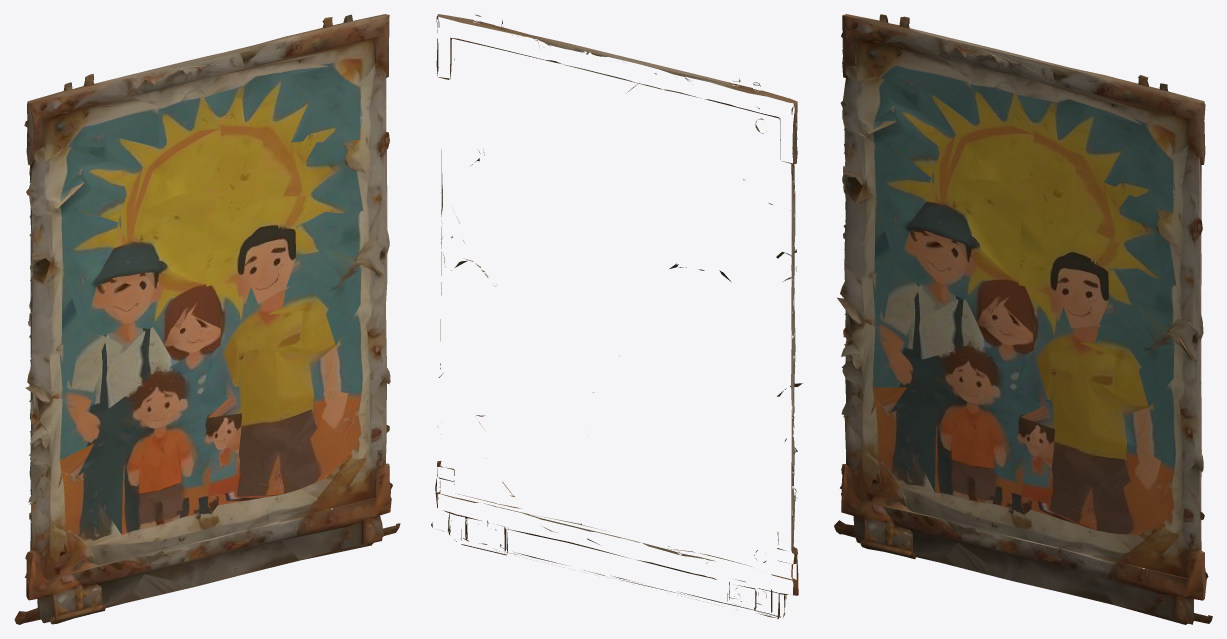
File: poster_1_idle.glb
3 views of the same model, side by side, from view 1: azimuth 30°, elevation 25°; view 2: azimuth 150°, elevation 25°; view 3: azimuth 330°, elevation 25° (orthographic).
Parts seen in each view (by area): view 1: tripo_node_bb902df6-f2d8-4b44-9ea7-0f4921920916; view 2: tripo_node_bb902df6-f2d8-4b44-9ea7-0f4921920916; view 3: tripo_node_bb902df6-f2d8-4b44-9ea7-0f4921920916.
Boxes of the visible parts, x1,y1,x2,y2 form: tripo_node_bb902df6-f2d8-4b44-9ea7-0f4921920916: (14, 14, 400, 624); tripo_node_bb902df6-f2d8-4b44-9ea7-0f4921920916: (431, 14, 802, 618); tripo_node_bb902df6-f2d8-4b44-9ea7-0f4921920916: (834, 14, 1212, 624).
Bounding box in the file's own units: 0.5939 × 0.7995 × 0.0201.
1 material, 1 textured.
